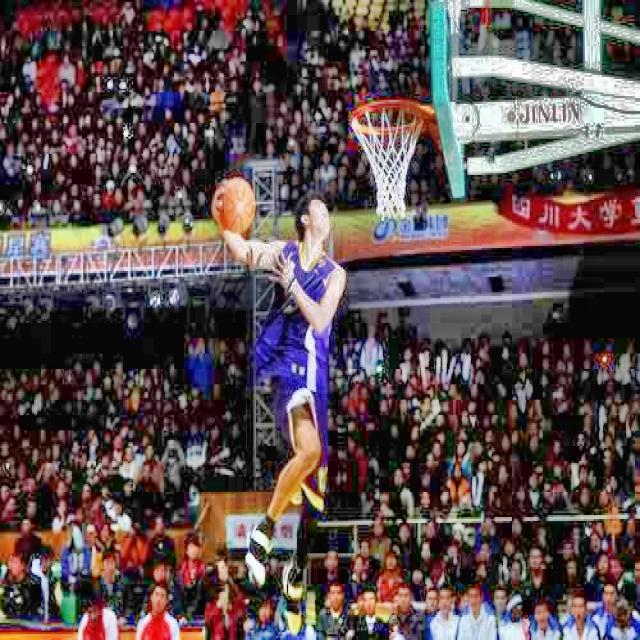board: (221, 177, 255, 232)
rim: (352, 98, 426, 219)
